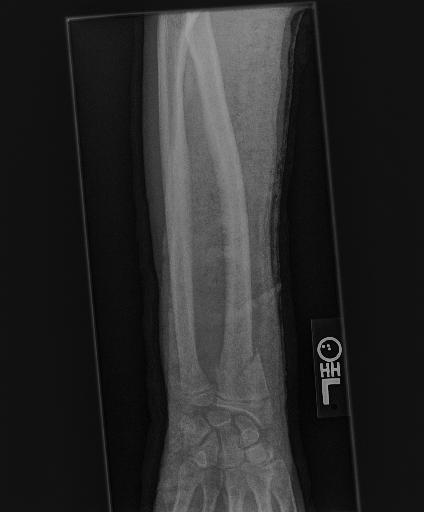fractured: (206, 346, 276, 394)
